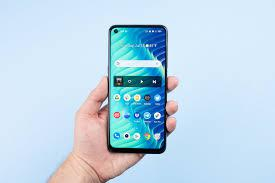Hand: (65, 74, 179, 172)
Smartphone: (106, 19, 166, 156)
